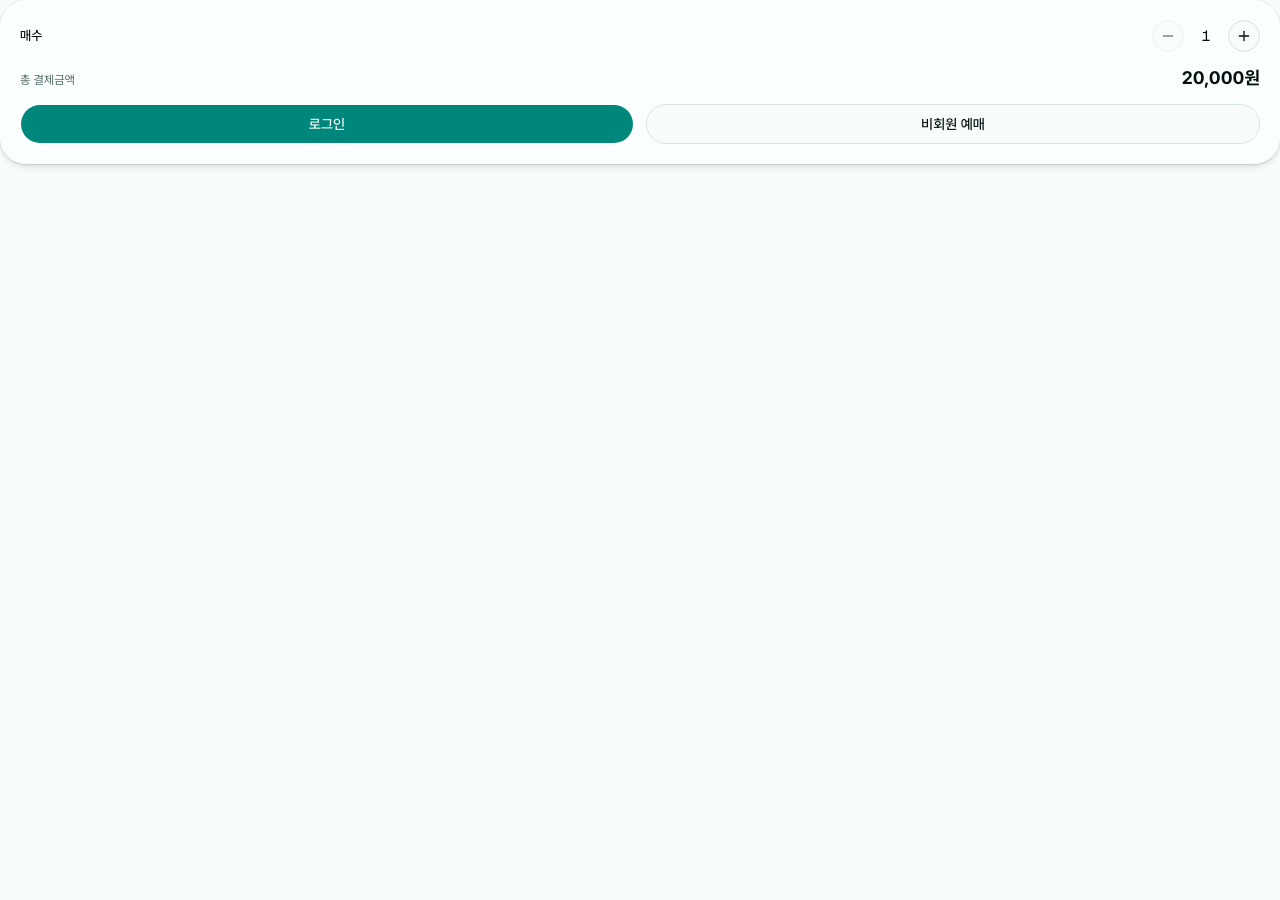
Scenario: BookingForm — 예매자 정보(2단계) › 주의사항(noticeHtml)을 폼 상단에 렌더링한다
Click the button "비회원 예매".
click(953, 124)  # box 646,104 -> 1260,144
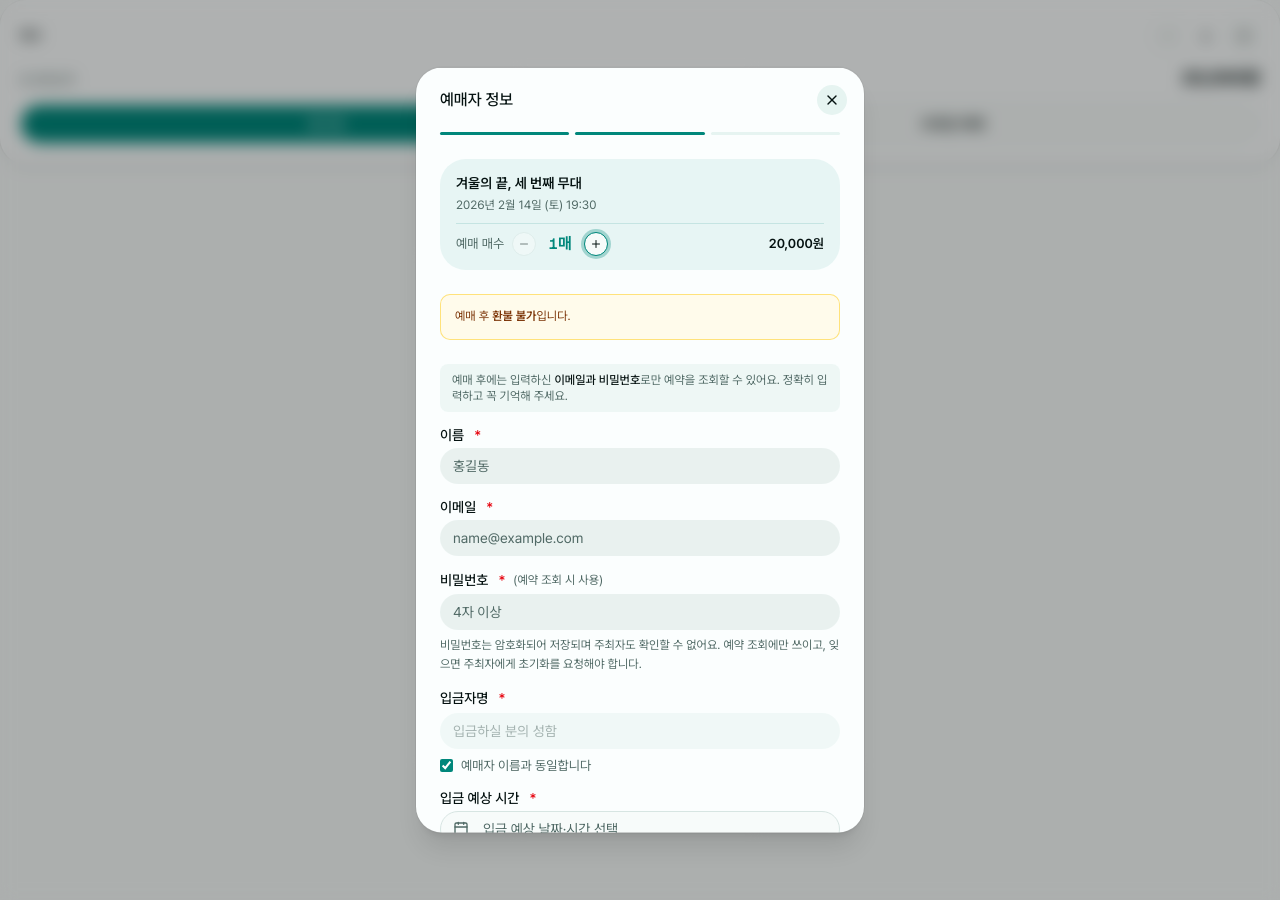
expect the text "환불 불가" is shown: met, box 492,308 -> 536,322
